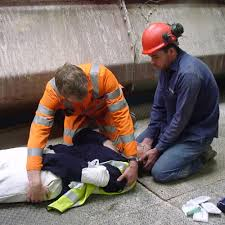Person_wearing_helmet: (135, 20, 184, 51)
